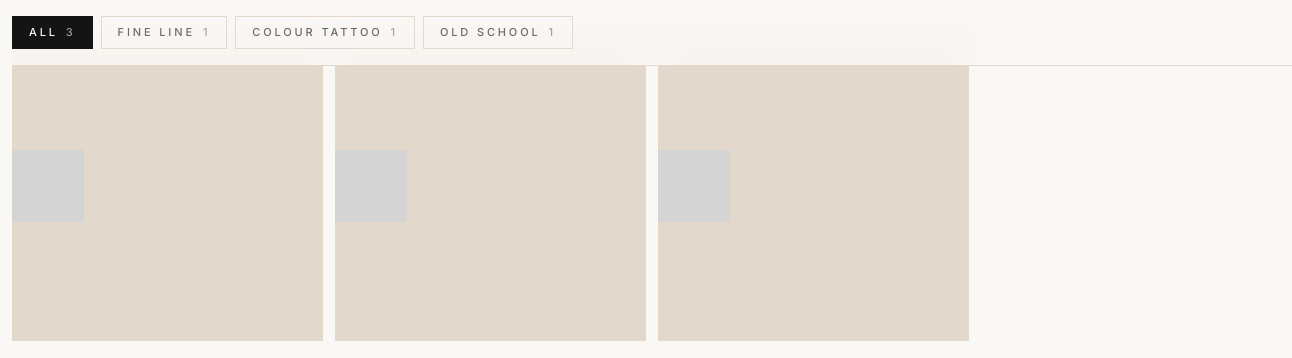
Test case: GalleryGrid › filters images when a type tab is clicked
Click the button "Fine Line 1": click(164, 32) [101,16,227,49]
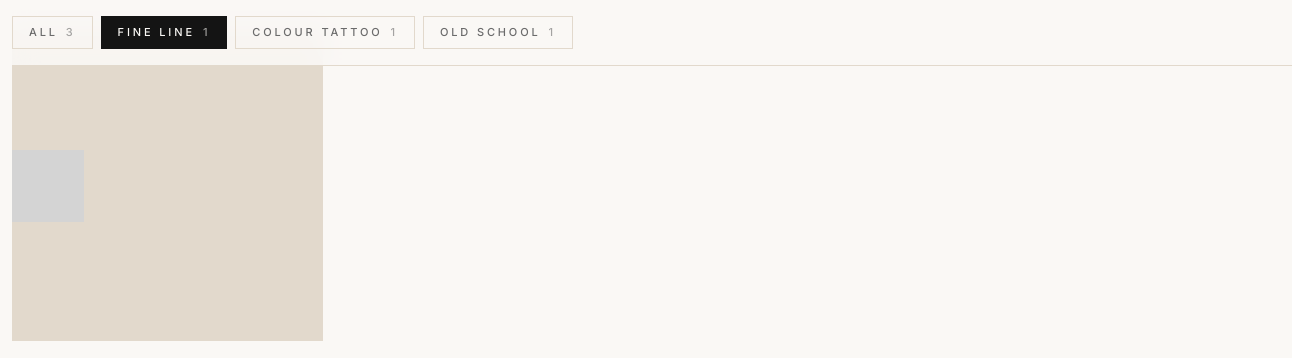
Expected: the number of buttons named "view" is 1, [12,30,323,341]
